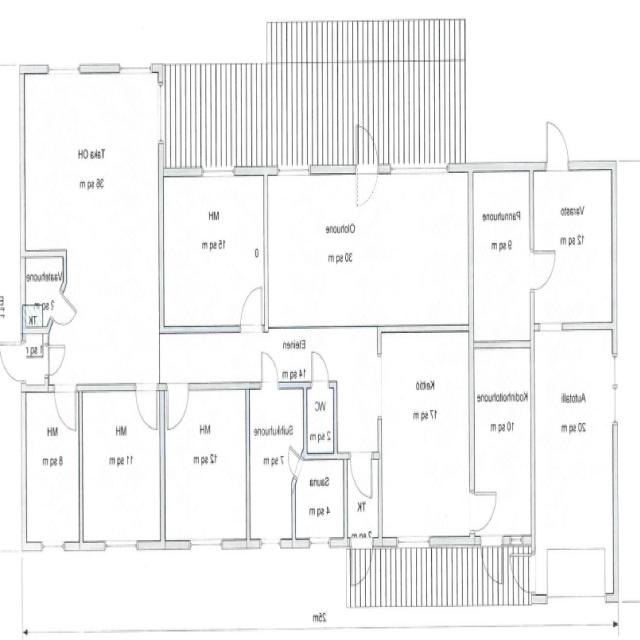door: (51, 290, 78, 337), (546, 119, 569, 170), (356, 119, 379, 170), (481, 542, 504, 592), (470, 492, 497, 532), (0, 342, 26, 382), (54, 385, 76, 432), (531, 251, 557, 290), (240, 287, 262, 333), (167, 385, 189, 431), (350, 453, 372, 499), (351, 542, 372, 589), (136, 385, 157, 429), (512, 555, 536, 592), (284, 445, 304, 480), (45, 345, 66, 376), (312, 355, 329, 392), (261, 355, 278, 392)
